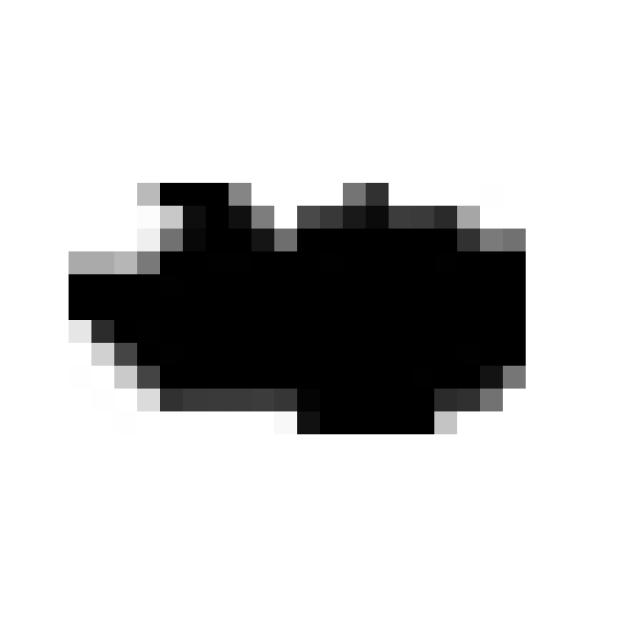0 -zero-: (51, 164, 534, 450)
